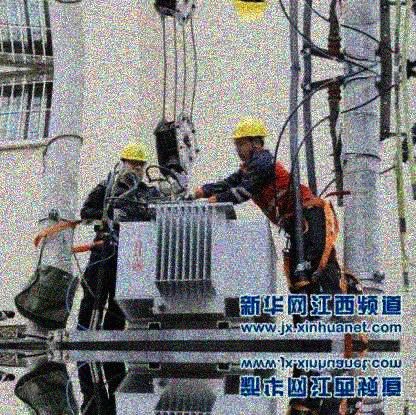helmet: (229, 116, 270, 159), (119, 140, 151, 179)
